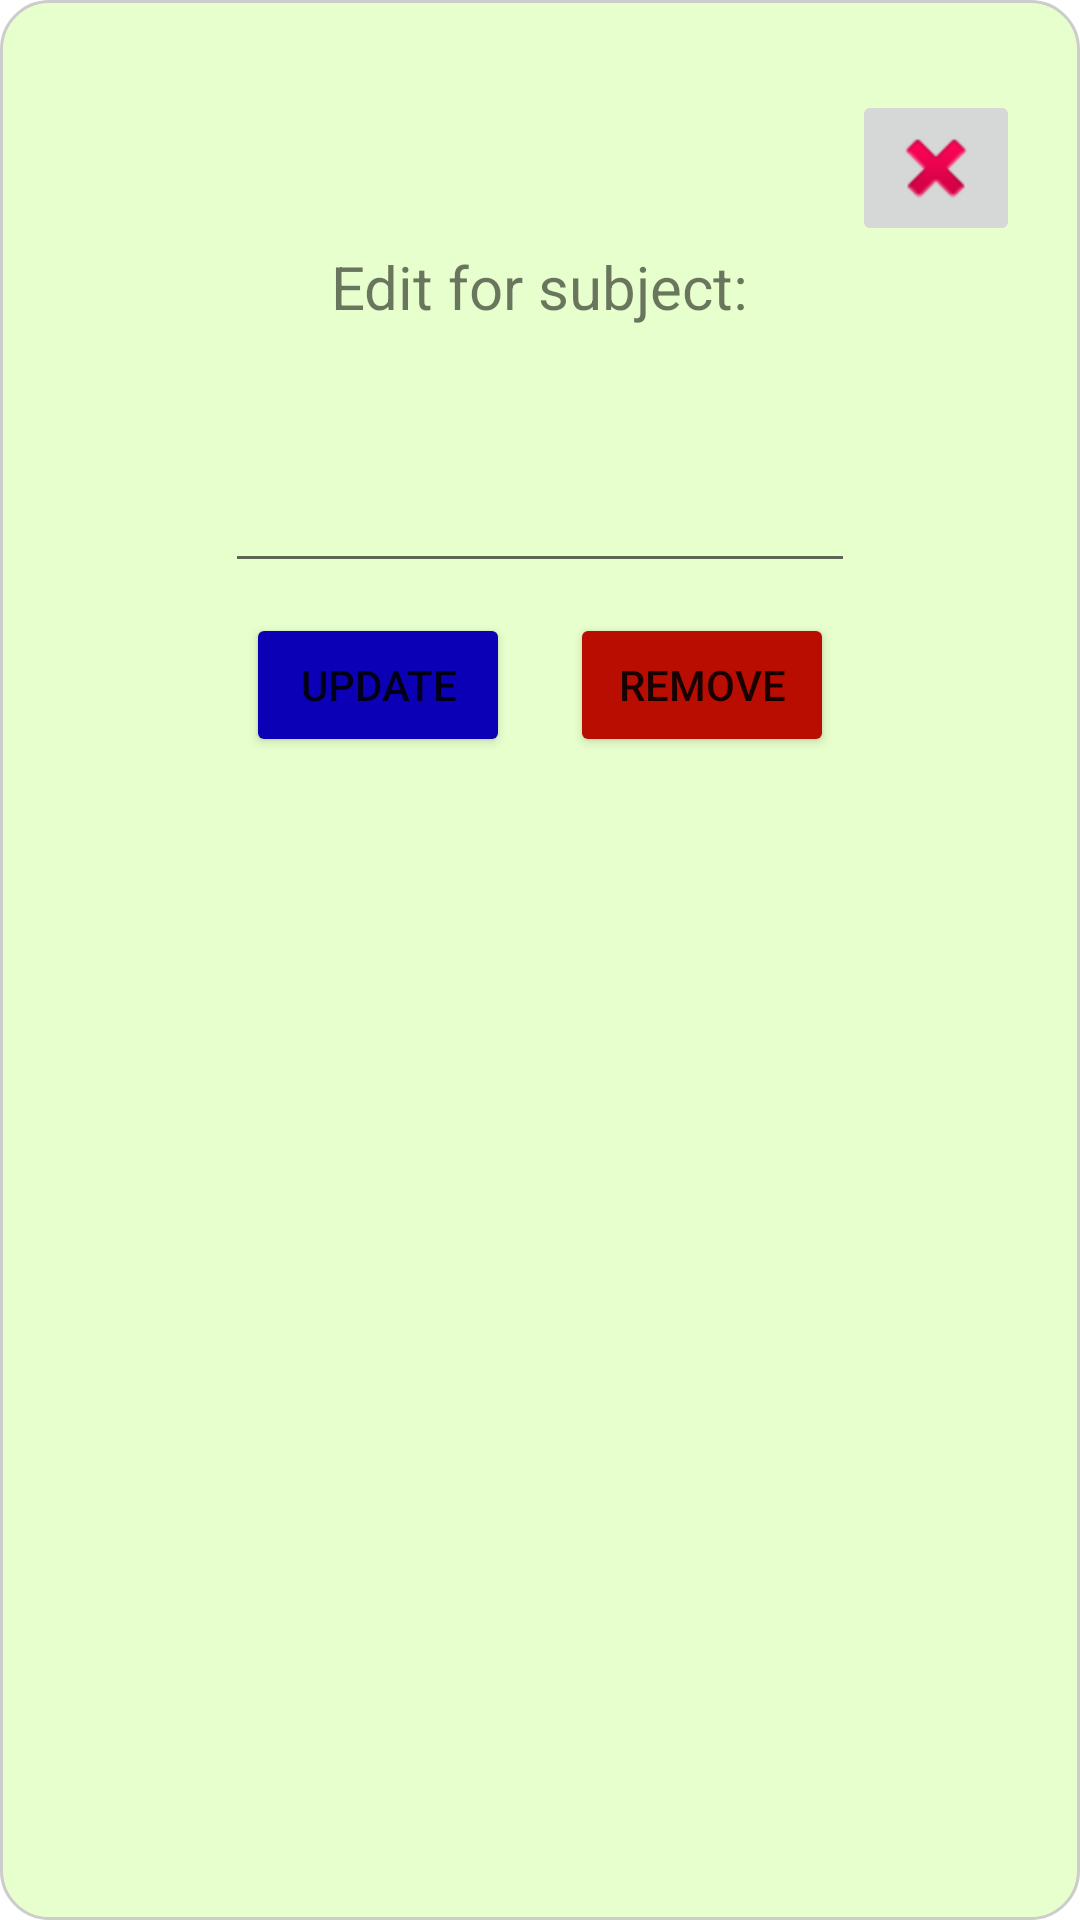

Locate icon controls on the screen. Image size 1080*1920, boxes as (x1, y1, x2, y2).
delete: (864, 108, 1008, 228)
